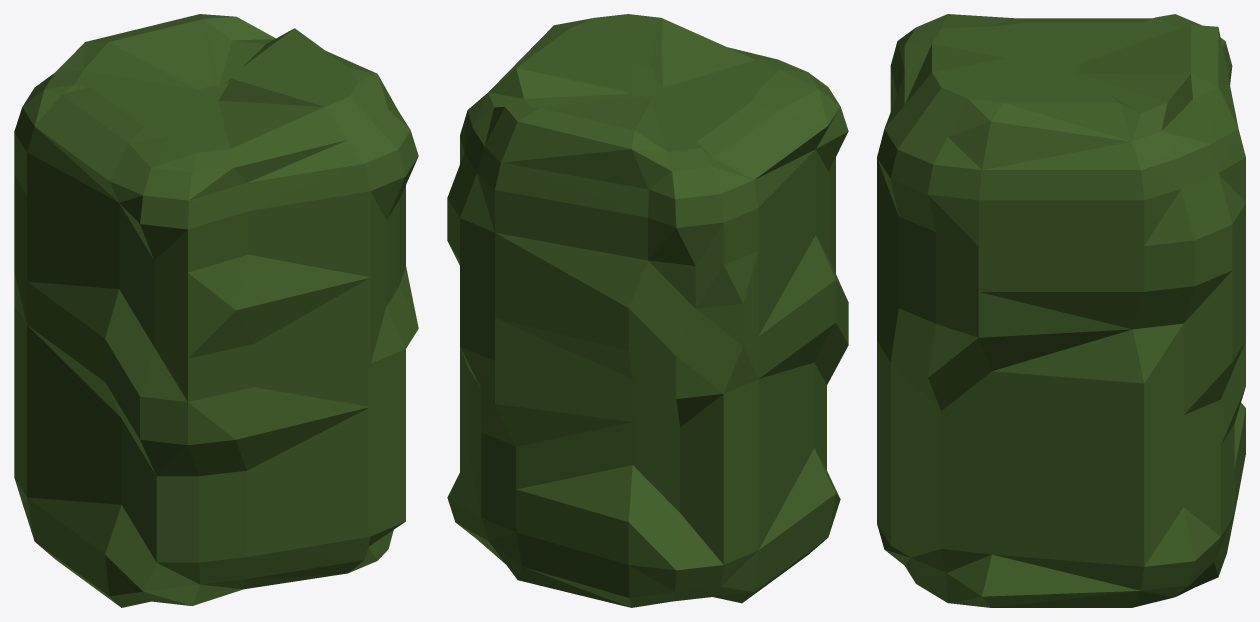
The model's file is BushOrHedge.fbx.
3 views of the same model, side by side, from view 1: azimuth 30°, elevation 25°; view 2: azimuth 150°, elevation 25°; view 3: azimuth 270°, elevation 25° (orthographic). The views are drawn at different scales.
Parts seen in each view (by area): view 1: Bush; view 2: Bush; view 3: Bush.
Boxes of the visible parts, x1,y1,x2,y2 form: Bush: [14, 14, 418, 607]; Bush: [447, 14, 848, 607]; Bush: [877, 14, 1245, 607].
Size of the model in its own units: 2084 by 3286 by 2084.
